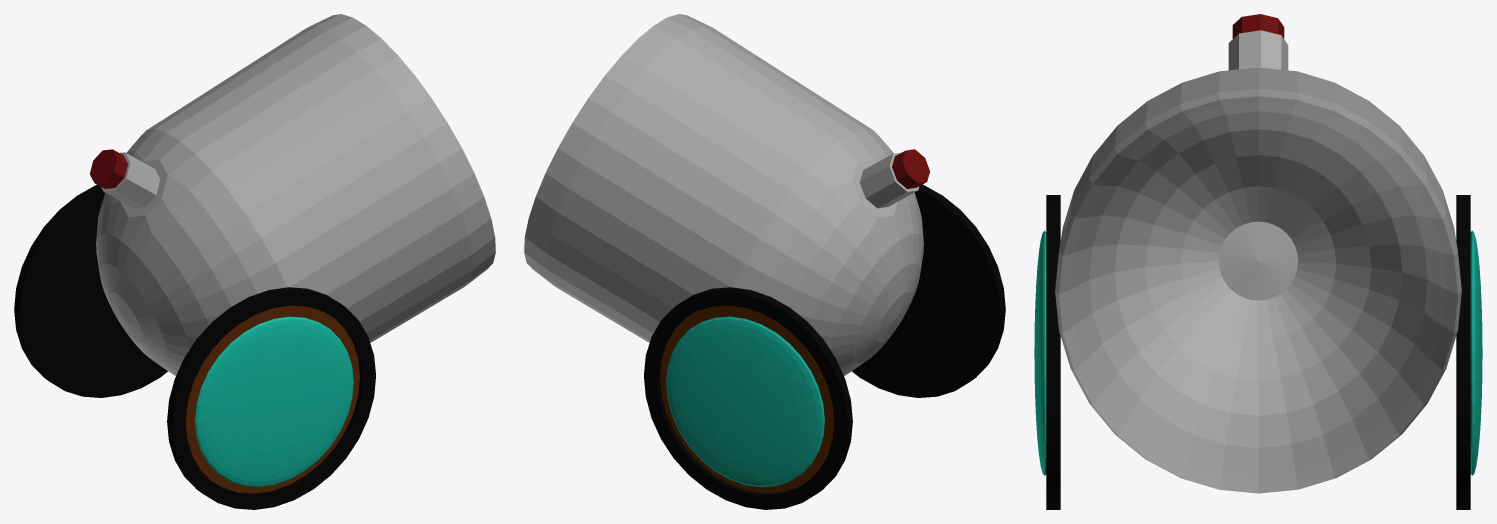
The model's file is BigDrop.fbx.
The picture shows the model from 3 angles, left to right: view 1: azimuth 30°, elevation 25°; view 2: azimuth 150°, elevation 25°; view 3: azimuth 270°, elevation 25°; orthographic projection. The views are drawn at different scales.
Visible parts, largest first — view 1: Sphere, Cylinder, Sphere.001; view 2: Sphere, Cylinder, Sphere.001; view 3: Sphere, Cylinder, Sphere.001.
Part boxes in pixels (x1,y1,x2,y2): Sphere: (90, 14, 495, 375); Cylinder: (14, 185, 375, 509); Sphere.001: (195, 316, 353, 487); Sphere: (524, 14, 929, 375); Cylinder: (644, 184, 1005, 509); Sphere.001: (666, 316, 824, 487); Sphere: (1055, 14, 1461, 493); Cylinder: (1046, 195, 1470, 509); Sphere.001: (1034, 230, 1482, 475).
Size of the model in its own units: 386 by 391 by 310.
